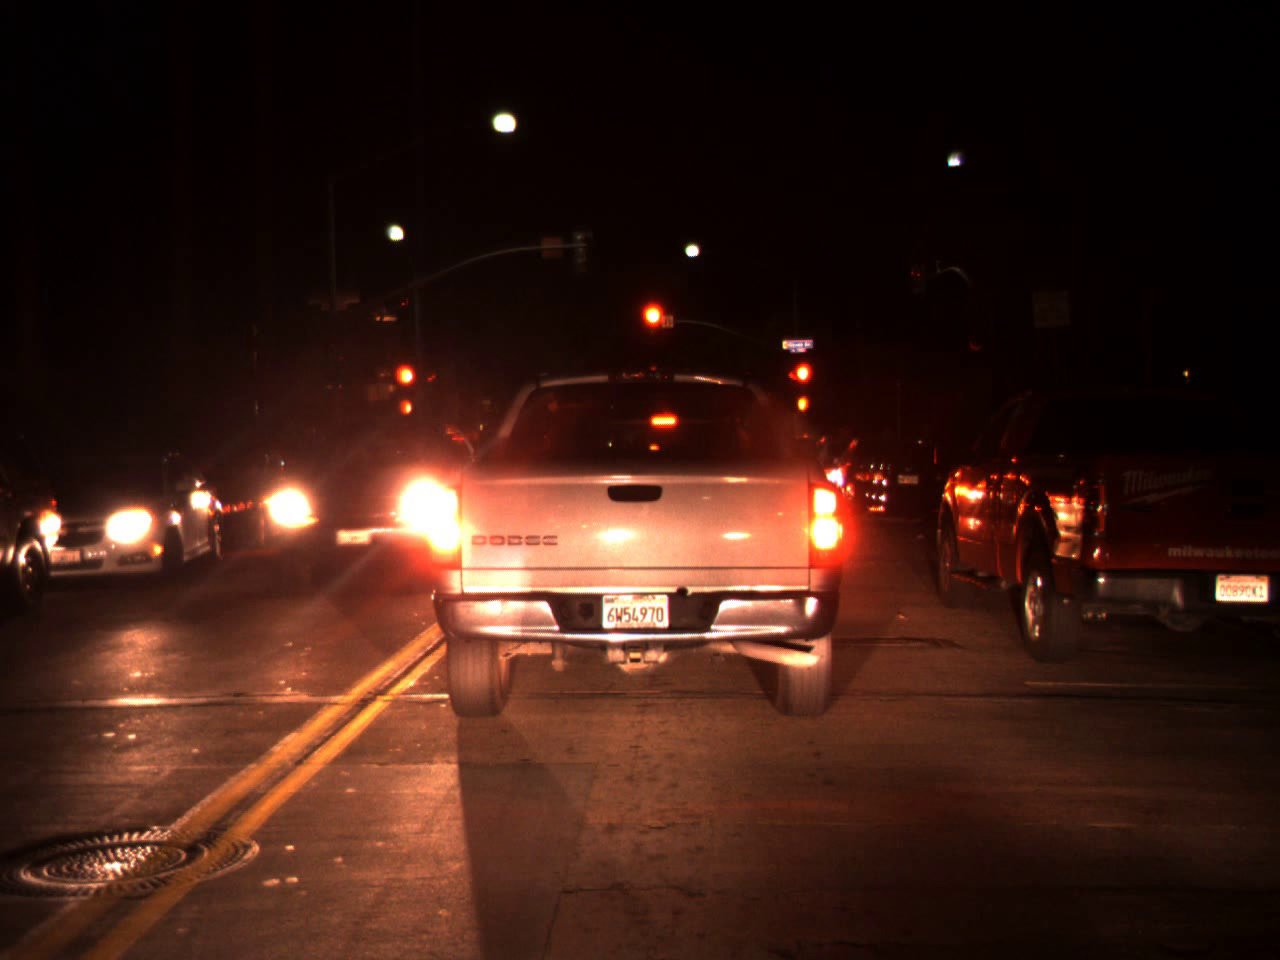stop: (637, 298, 670, 360), (784, 359, 815, 407), (392, 361, 419, 412)
